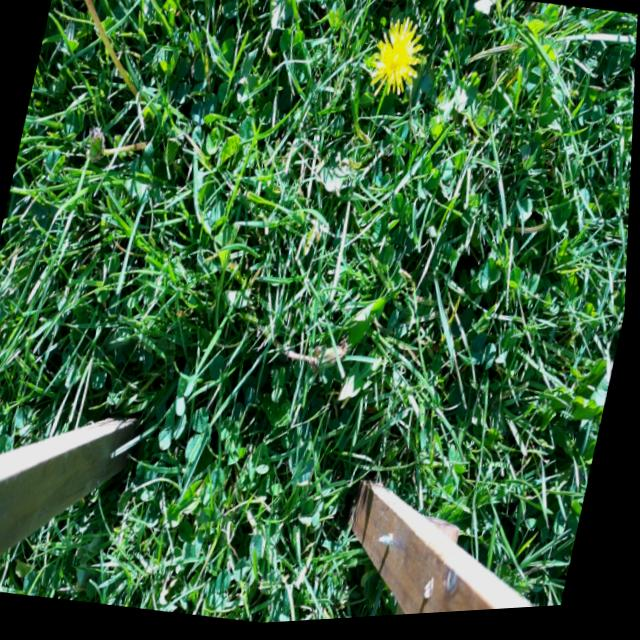base: (255, 320, 276, 349)
flower: (364, 16, 431, 107), (308, 331, 357, 390), (279, 0, 315, 3)
